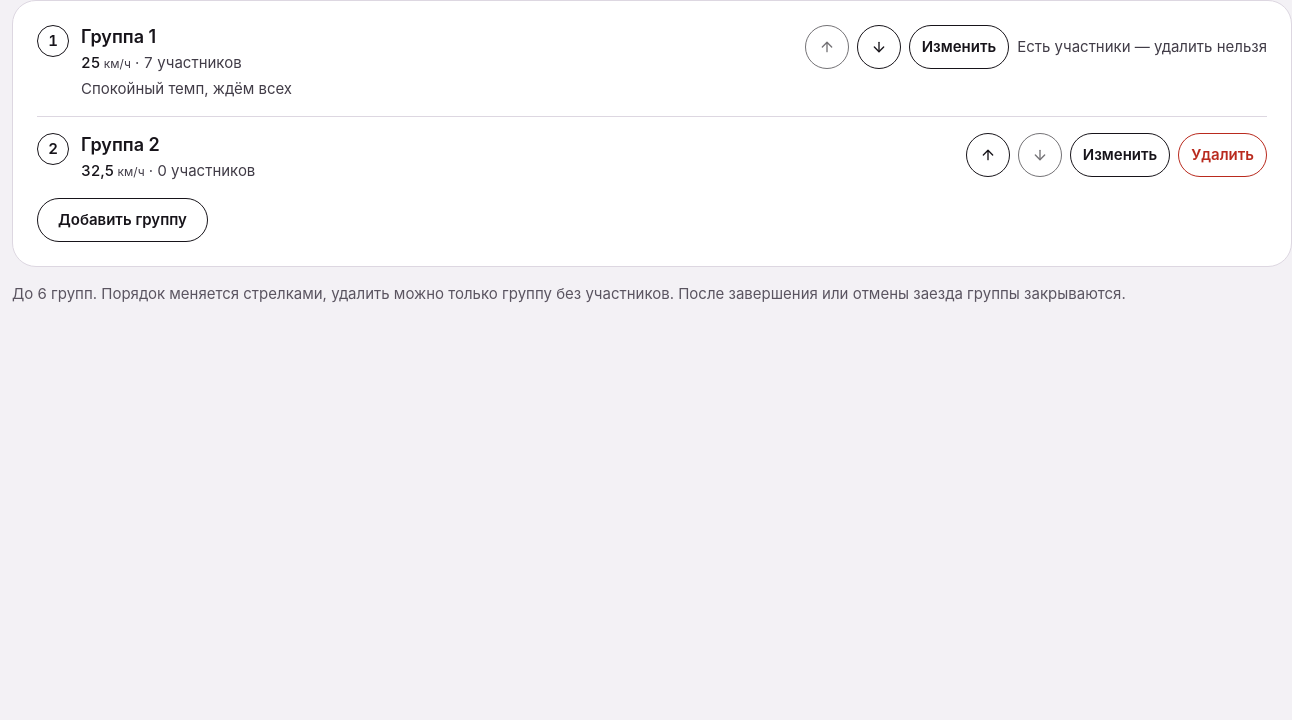
Test: GroupsEditor — add › suggests «Группа N» and sends a numeric pace parsed from «27,5»
Click the button "Добавить группу" at x=122, y=220, box top-left (37, 198), bottom-right (208, 242)
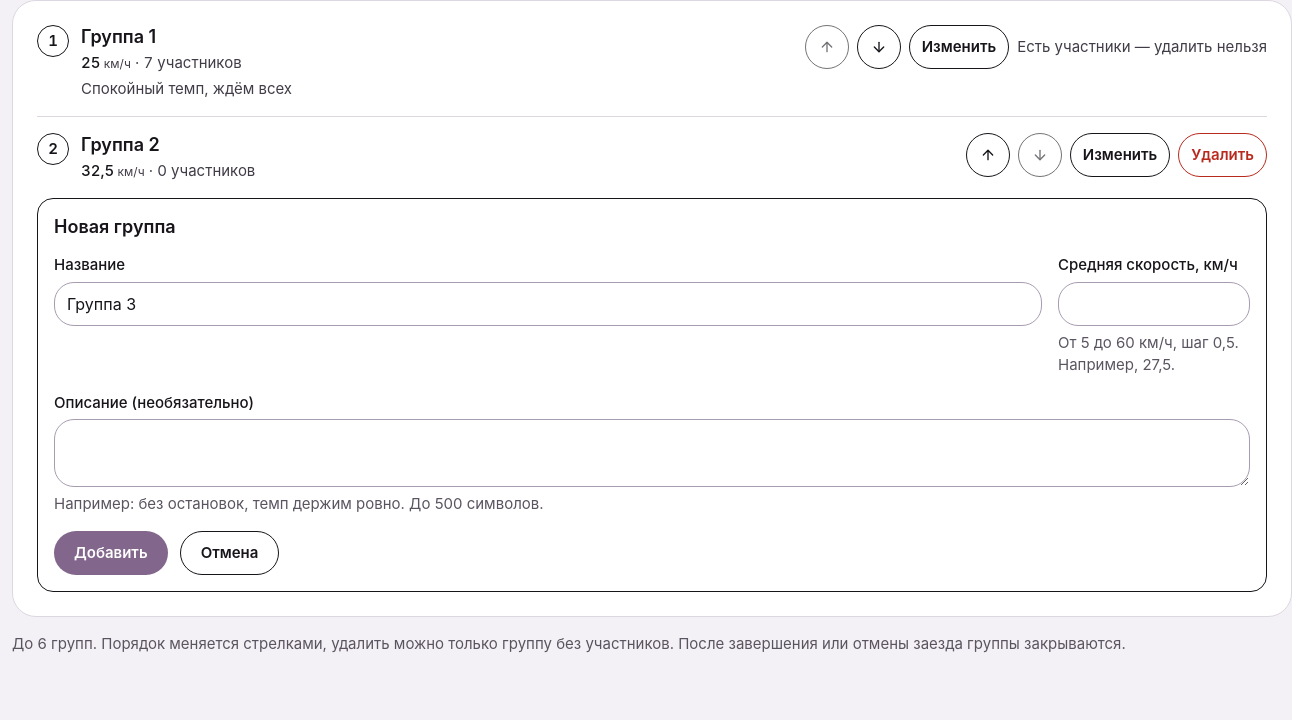
Check: the field labelled "Название" holds "Группа 3", box top-left (54, 282), bottom-right (1042, 326)
Type "27,5" into the field labelled "Средняя скорость, км/ч" at x=1154, y=304, box top-left (1058, 282), bottom-right (1250, 326)
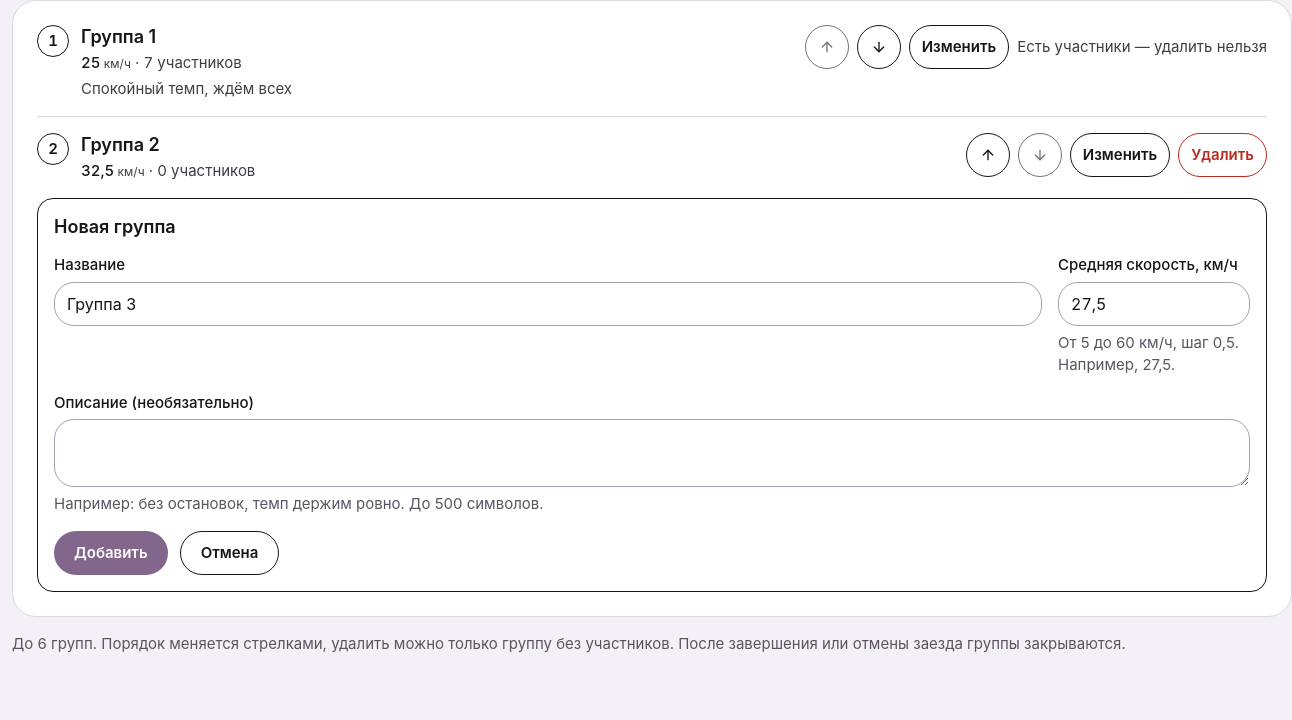
Type "  Без остановок  " into the text box labelled "Описание (необязательно)" at x=652, y=453, box top-left (54, 419), bottom-right (1250, 487)
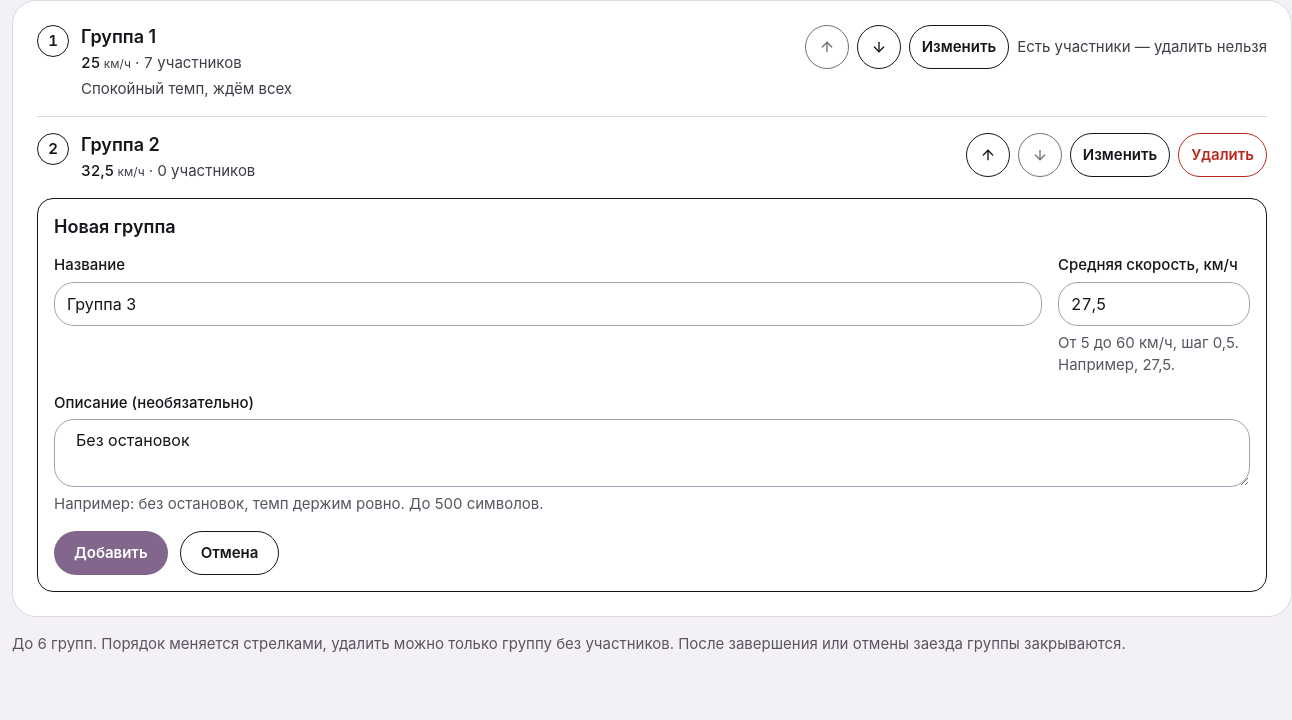
Click the button "Добавить" at x=111, y=553, box top-left (54, 531), bottom-right (168, 575)
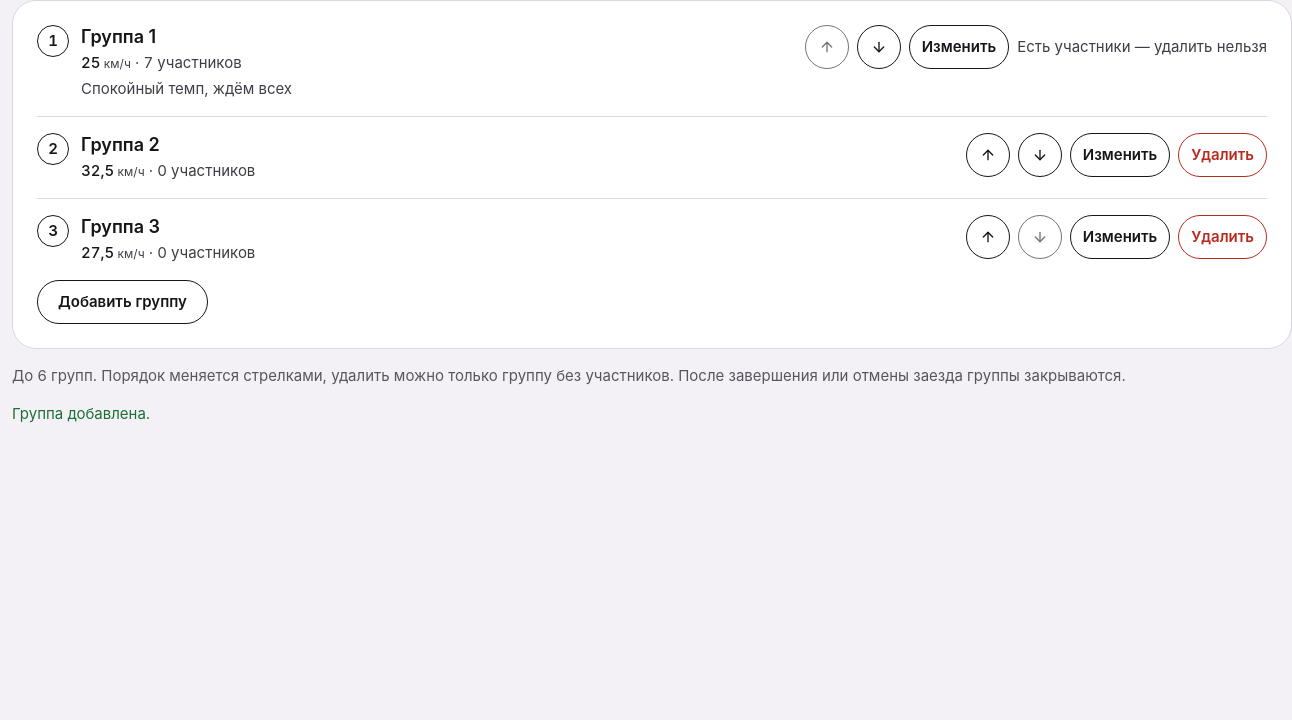
Check: the text "Группа добавлена." is shown, box top-left (12, 404), bottom-right (150, 423)
Check: the text "Группа 3" is shown, box top-left (81, 216), bottom-right (160, 237)
